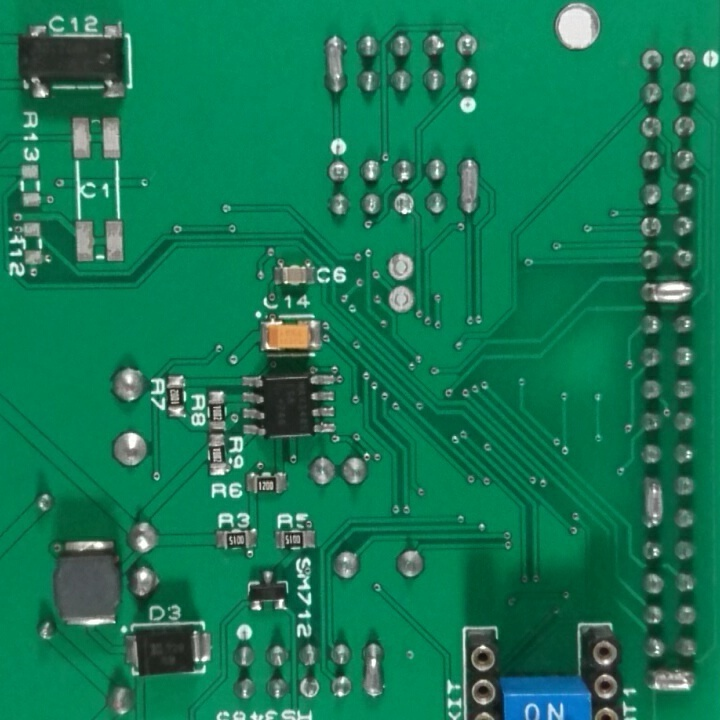F: (383, 251, 417, 286), (386, 283, 416, 316), (454, 30, 484, 61), (390, 189, 419, 220), (670, 46, 699, 74), (671, 112, 697, 143), (326, 159, 352, 189), (638, 214, 664, 243), (299, 676, 322, 702)
P: (320, 28, 353, 103), (453, 152, 483, 219), (637, 667, 701, 698), (357, 636, 388, 700), (636, 280, 704, 308), (638, 472, 667, 532)
